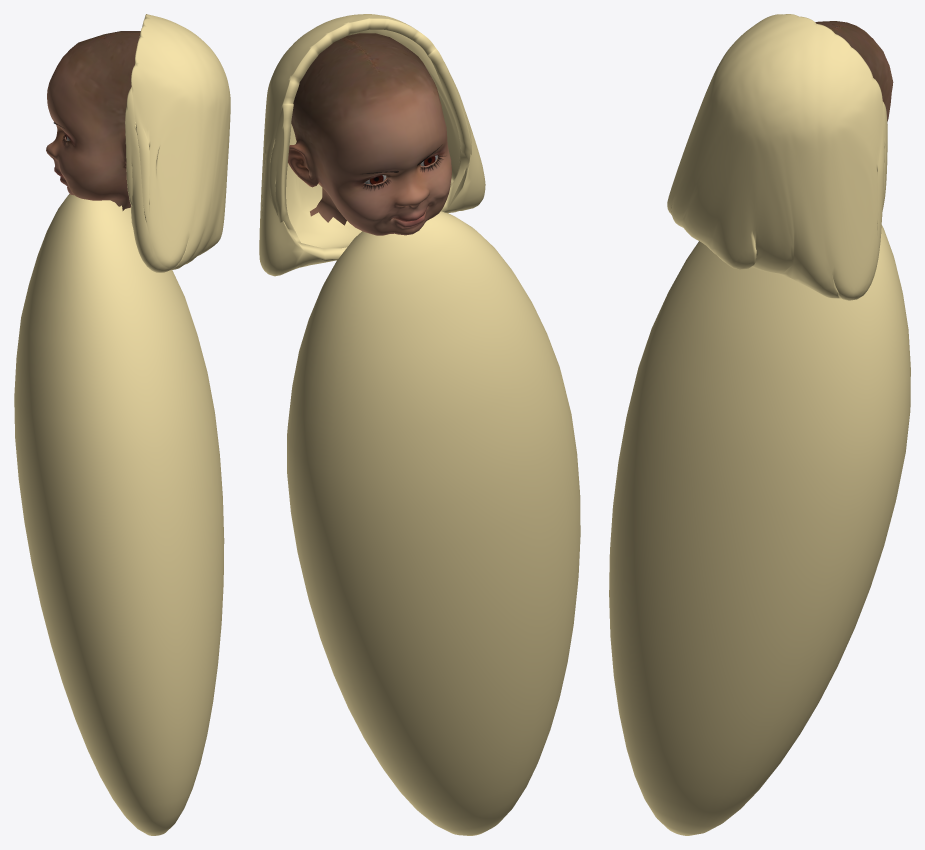
Rendered from d-baby.glb.
The picture shows the model from 3 angles, left to right: view 1: azimuth 30°, elevation 25°; view 2: azimuth 150°, elevation 25°; view 3: azimuth 270°, elevation 25°; orthographic projection. The views are drawn at different scales.
Parts seen in each view (by area): view 1: Swaddle, Hood, d-baby_body.001; view 2: Swaddle, d-baby_body.001, Hood; view 3: Swaddle, Hood, d-baby_body.001.
Boxes of the visible parts, <box> form: Swaddle: <box>14,193,224,835</box>; Hood: <box>125,14,230,272</box>; d-baby_body.001: <box>46,31,140,210</box>; Swaddle: <box>287,211,580,835</box>; d-baby_body.001: <box>288,33,451,235</box>; Hood: <box>259,14,485,276</box>; Swaddle: <box>609,225,910,835</box>; Hood: <box>667,14,887,300</box>; d-baby_body.001: <box>815,21,893,121</box>.
Bounding box in the file's own units: 0.1511 × 0.5024 × 0.1639.
Materials: 5 (4 with a texture image).
